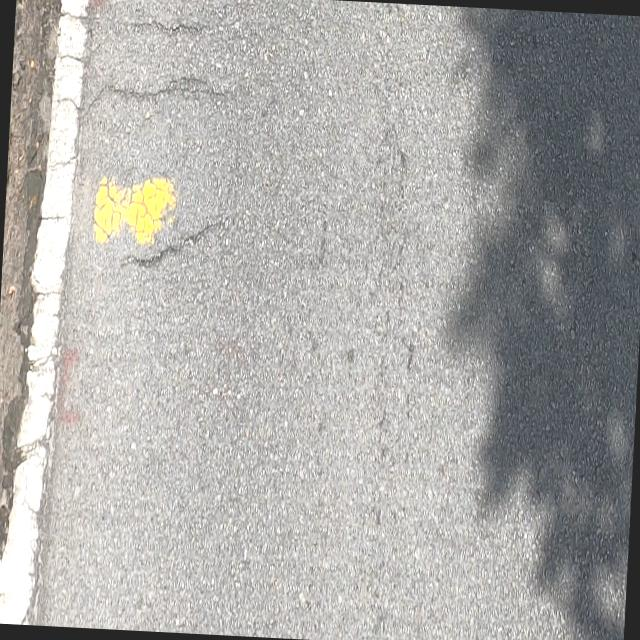Retak-Melintang: (113, 213, 215, 274), (86, 74, 237, 112), (128, 16, 210, 42)
